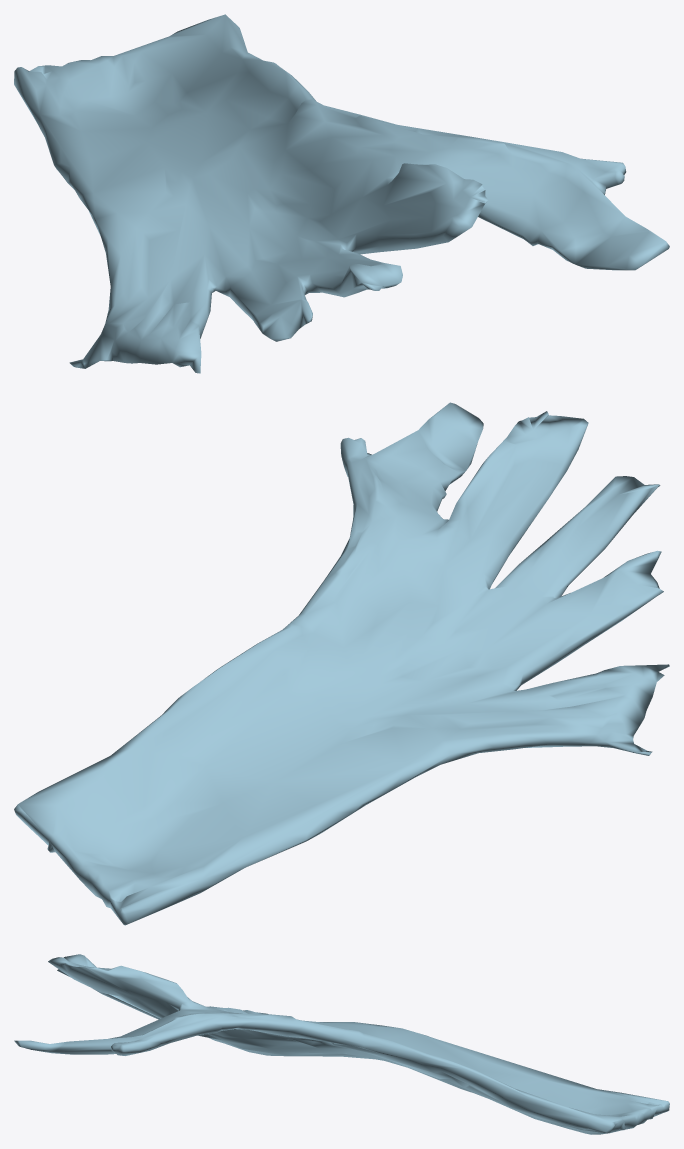
Rendered from articulacoes-long-plantar-ligament-r.glb.
3 renders of one model, top to bottom at view 1: azimuth 30°, elevation 25°; view 2: azimuth 150°, elevation 25°; view 3: azimuth 270°, elevation 25°, orthographic. The views are drawn at different scales.
Parts seen in each view (by area): view 1: Long plantar ligament.r; view 2: Long plantar ligament.r; view 3: Long plantar ligament.r.
Part boxes in pixels (<box>): Long plantar ligament.r: <box>14,14,669,373</box>; Long plantar ligament.r: <box>14,402,669,925</box>; Long plantar ligament.r: <box>14,954,669,1134</box>.
Size of the model in its own units: 0.0507 by 0.0254 by 0.0998.
